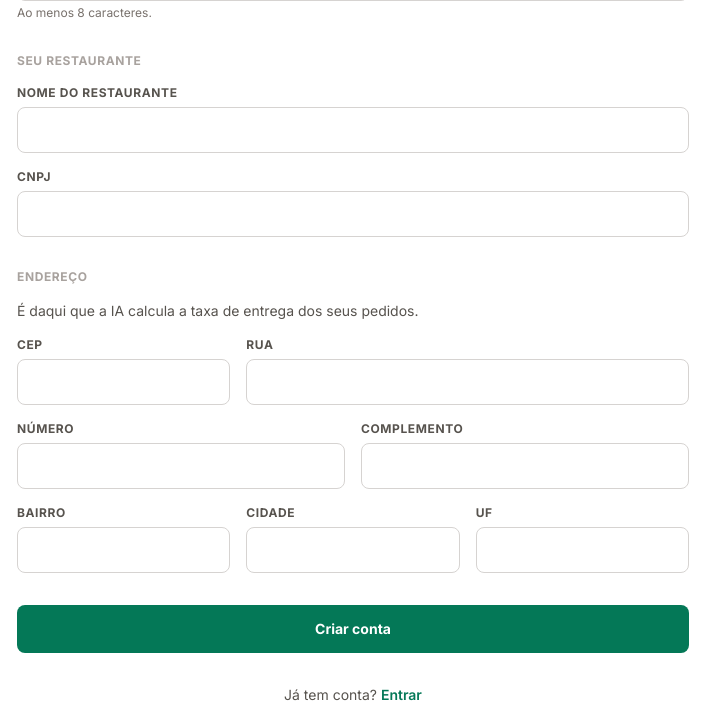
Test case: Cadastro › preenche o endereço sozinho quando o CEP é encontrado
(page scrolled)
Type "01310100" into the field labelled "CEP" at [124, 382], box top-left (17, 359), bottom-right (230, 405)
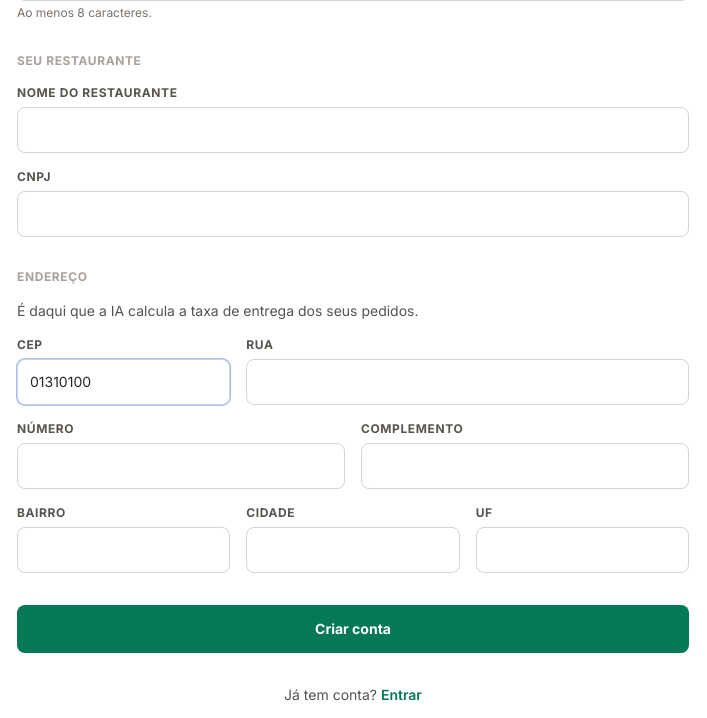
Press Tab
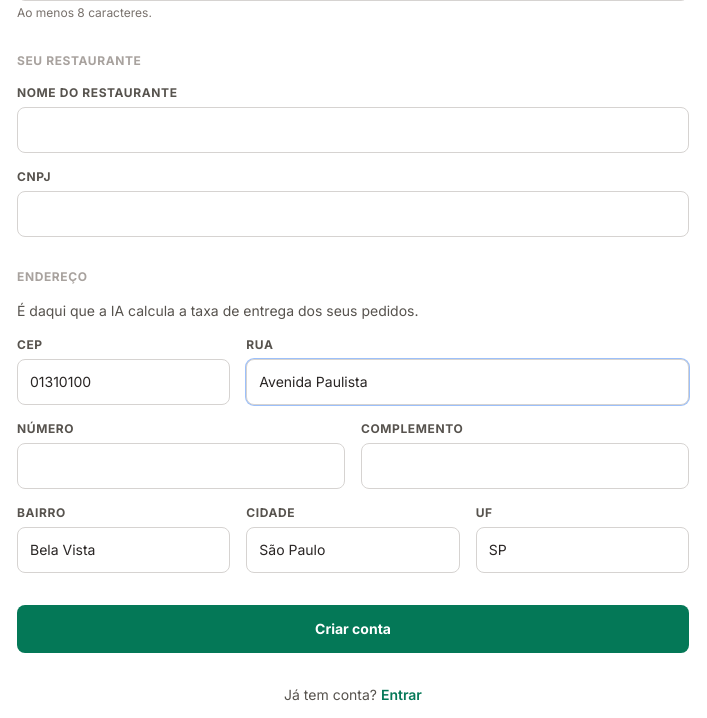
Check: the field labelled "Rua" holds "Avenida Paulista", box top-left (246, 359), bottom-right (689, 405)
Check: the field labelled "Cidade" holds "São Paulo", box top-left (246, 527), bottom-right (460, 573)
